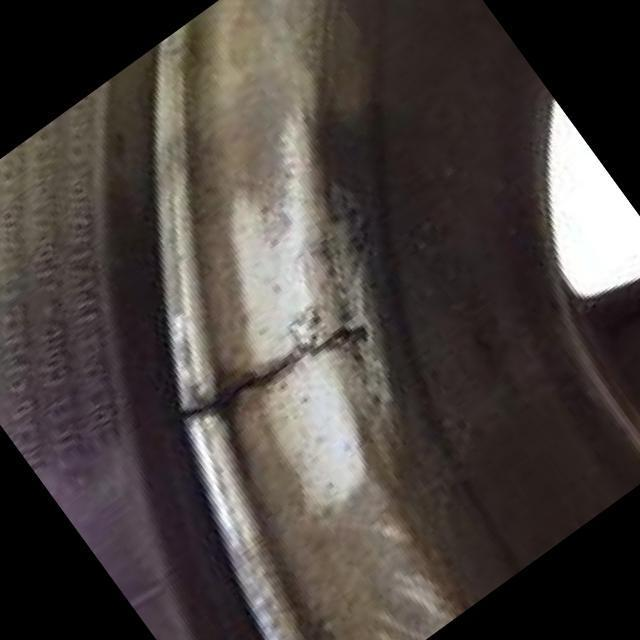defect: (170, 300, 372, 433)
